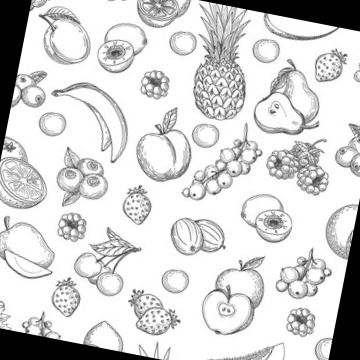Pineapple: (192, 5, 249, 121)
